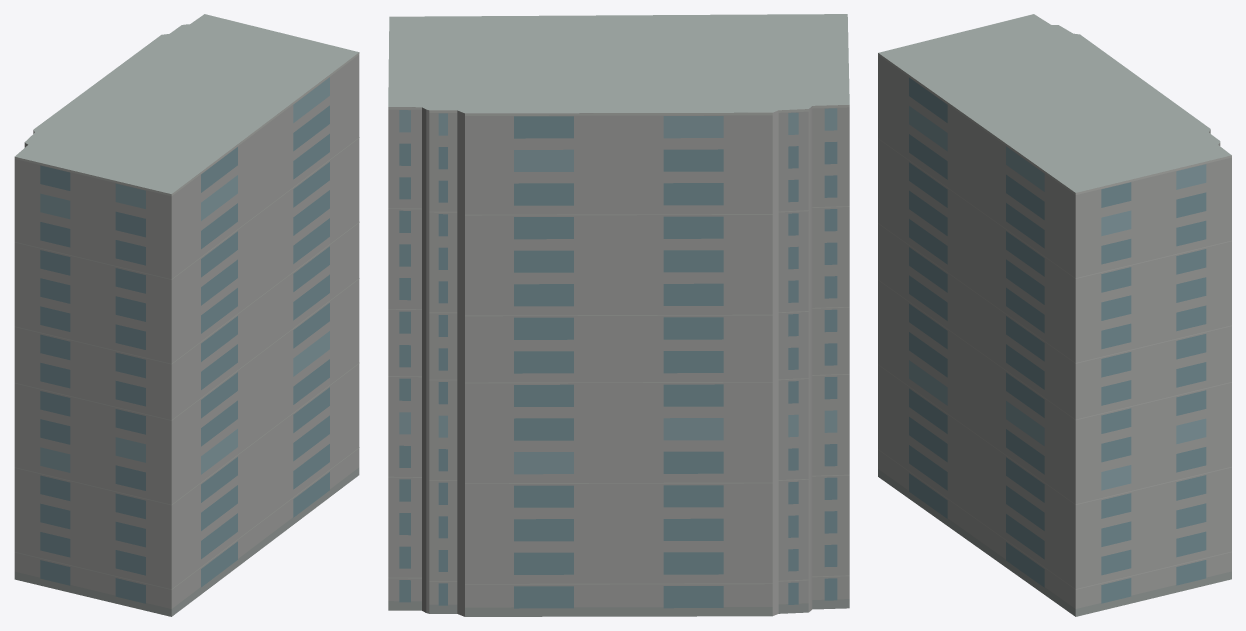
Rendered from survey-upis-32464641.glb.
3 renders of one model, left to right at view 1: azimuth 30°, elevation 25°; view 2: azimuth 150°, elevation 25°; view 3: azimuth 270°, elevation 25°, orthographic. The views are drawn at different scales.
Parts seen in each view (by area): view 1: survey-upis-32464641.tmp; view 2: survey-upis-32464641.tmp; view 3: survey-upis-32464641.tmp.
Part boxes in pixels (bbox=[...]): survey-upis-32464641.tmp: bbox=[14, 14, 359, 616]; survey-upis-32464641.tmp: bbox=[388, 14, 849, 616]; survey-upis-32464641.tmp: bbox=[878, 14, 1231, 616].
Size of the model in its own units: 42.57 by 47 by 35.56.
